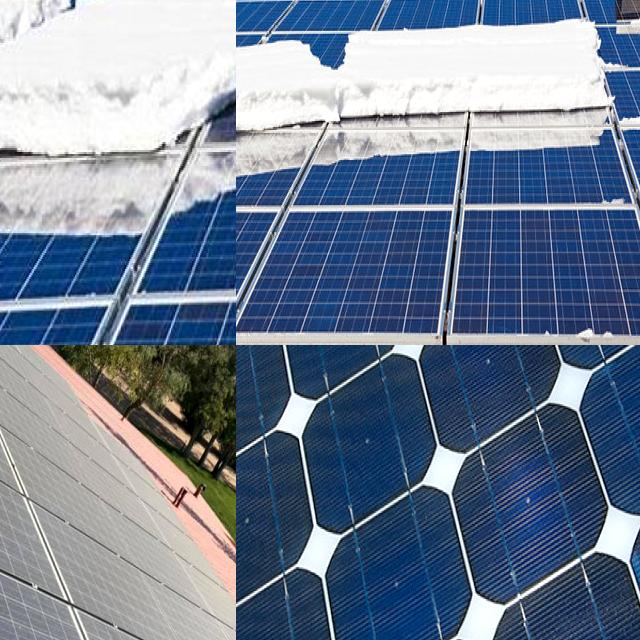crack: (236, 345, 640, 640)
dust: (0, 500, 71, 640), (12, 433, 94, 551), (104, 498, 180, 614), (0, 350, 56, 491), (0, 567, 98, 640), (0, 345, 45, 419), (0, 345, 49, 403)
panel: (236, 47, 340, 183), (1, 107, 94, 201), (528, 61, 622, 130), (418, 79, 517, 142), (103, 116, 180, 196), (331, 14, 422, 76), (236, 13, 324, 74), (144, 121, 208, 186), (200, 71, 236, 175), (61, 128, 121, 188), (236, 99, 303, 152), (143, 0, 236, 36), (318, 98, 406, 134), (46, 0, 159, 28), (516, 11, 602, 44), (563, 304, 637, 342), (436, 18, 505, 56), (0, 123, 37, 190), (0, 120, 38, 184), (0, 123, 40, 182), (236, 24, 265, 102), (596, 183, 640, 228), (619, 97, 640, 154), (0, 0, 45, 25), (236, 0, 264, 38), (0, 0, 43, 24), (618, 3, 640, 49), (236, 102, 254, 155), (236, 57, 260, 86), (0, 0, 30, 19)
